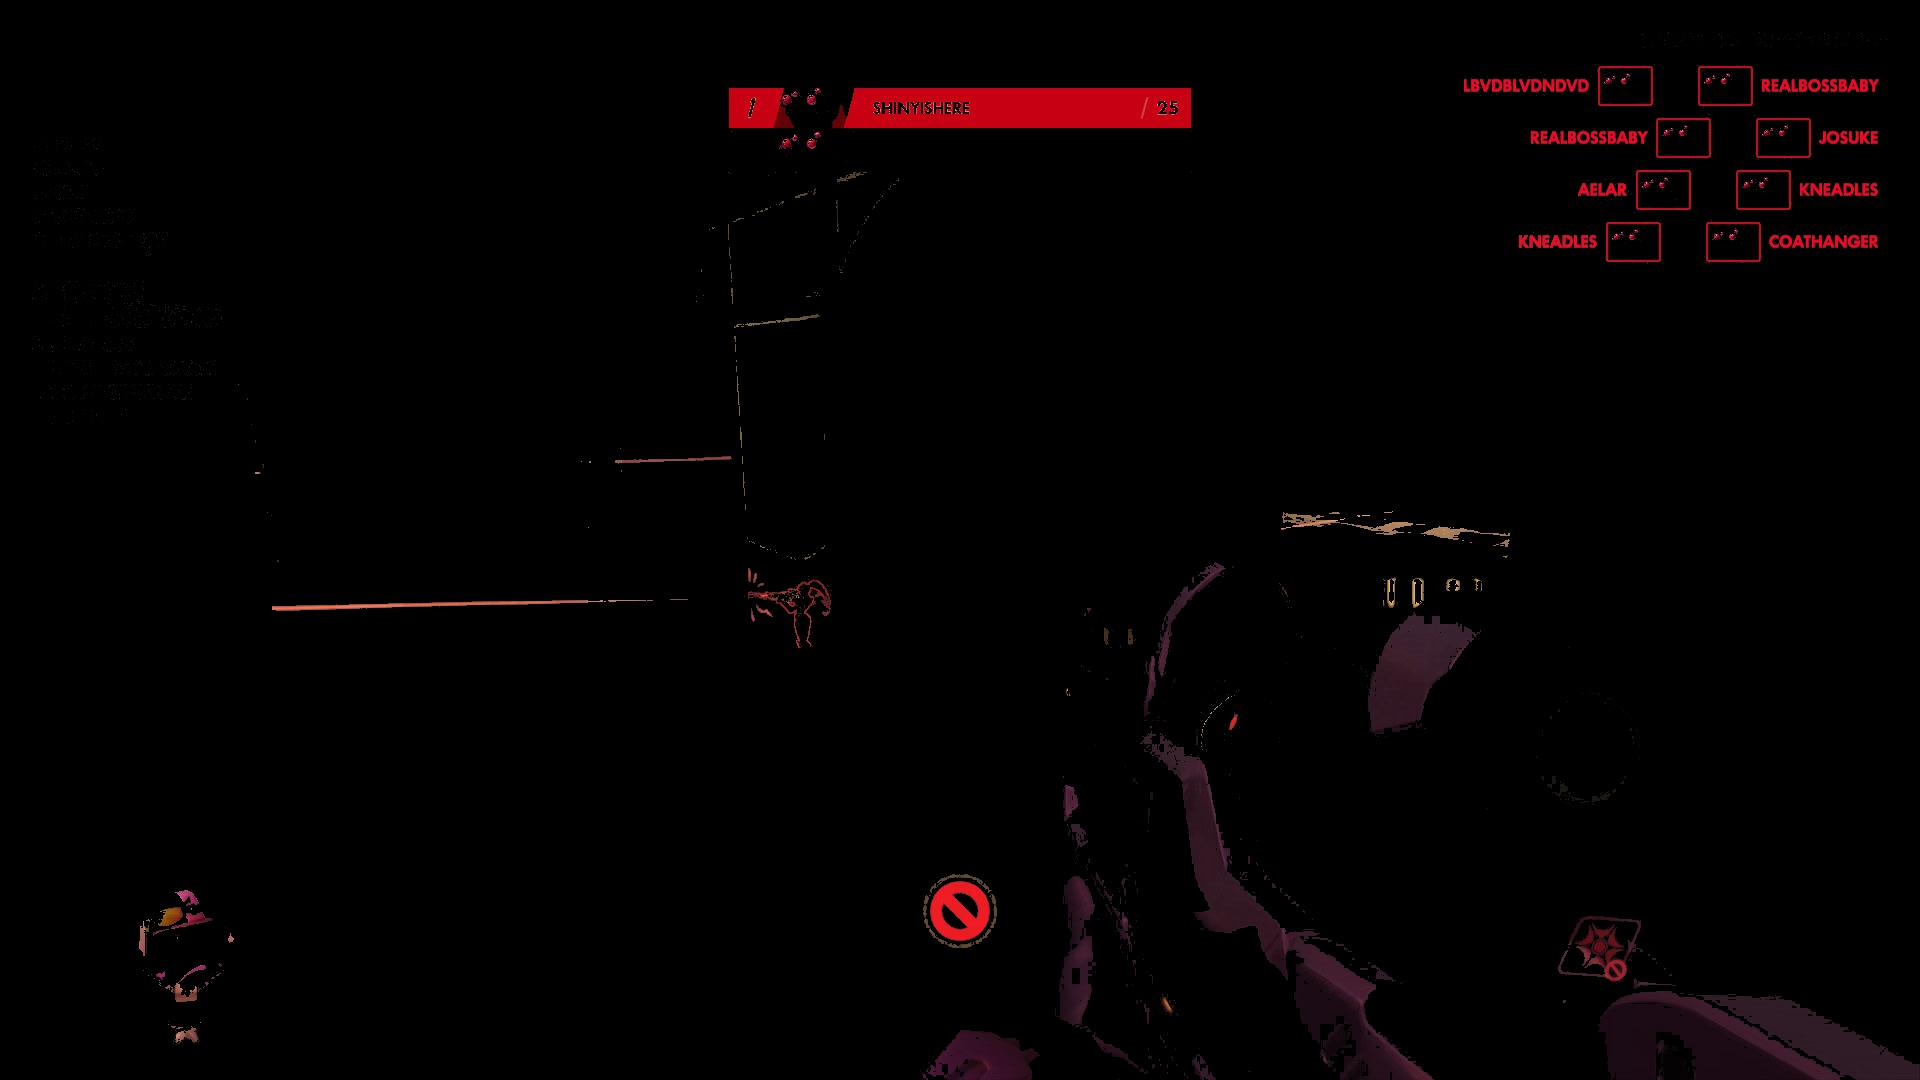widowmaker: (779, 580, 820, 651)
